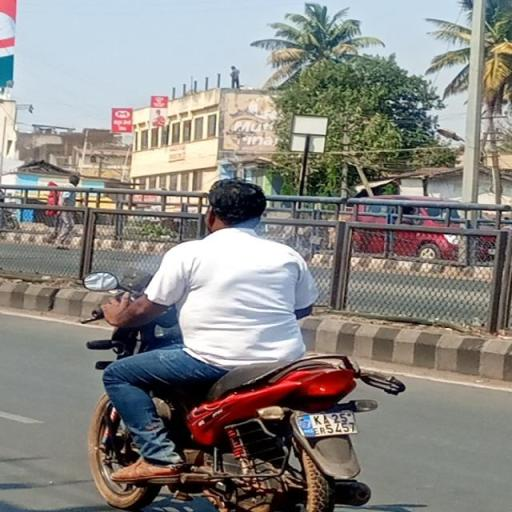bike: (79, 172, 398, 512)
numberplate: (298, 411, 358, 436)
withouthelmet: (212, 179, 265, 228)
